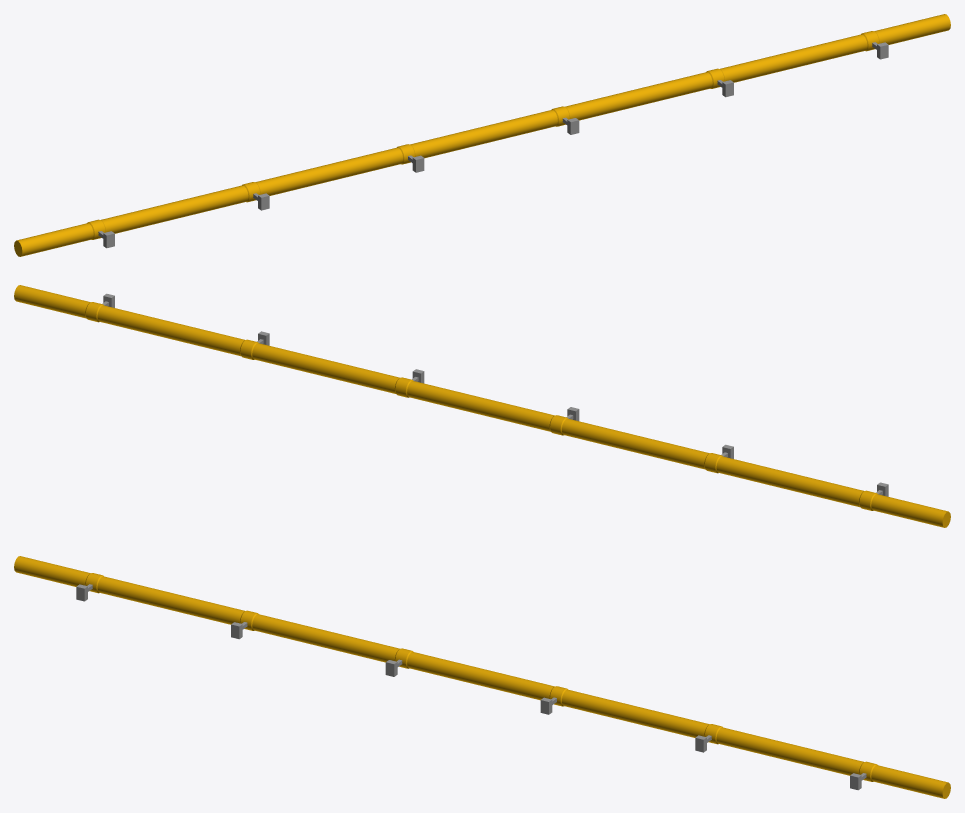
File: RailTube6m.fbx
3 views of the same model, one above another, from view 1: azimuth 30°, elevation 25°; view 2: azimuth 150°, elevation 25°; view 3: azimuth 330°, elevation 25° (orthographic).
Visible parts, largest first — view 1: RailTube6m; view 2: RailTube6m; view 3: RailTube6m.
Boxes of the visible parts, box(x1,y1,x2,y2) form: RailTube6m: box(14, 14, 950, 256); RailTube6m: box(14, 285, 950, 527); RailTube6m: box(14, 556, 950, 798).
Size of the model in its own units: 600 by 10.39 by 22.11.
